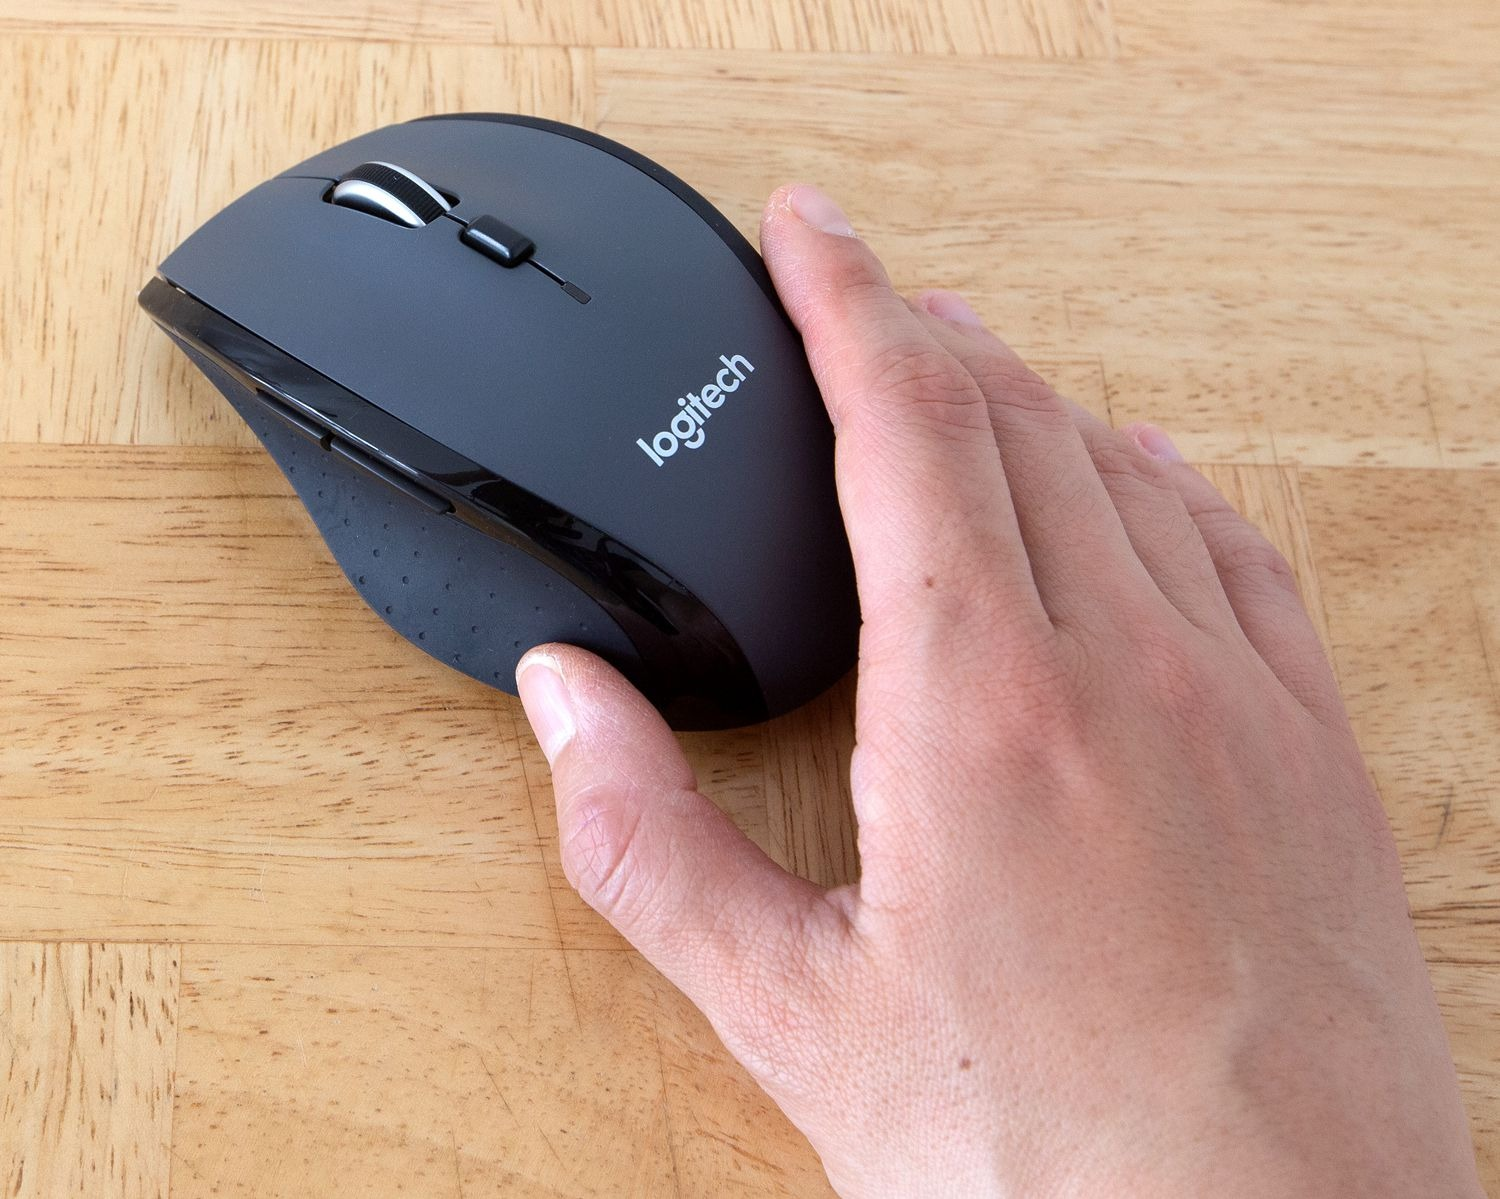mouse: (124, 91, 896, 729)
